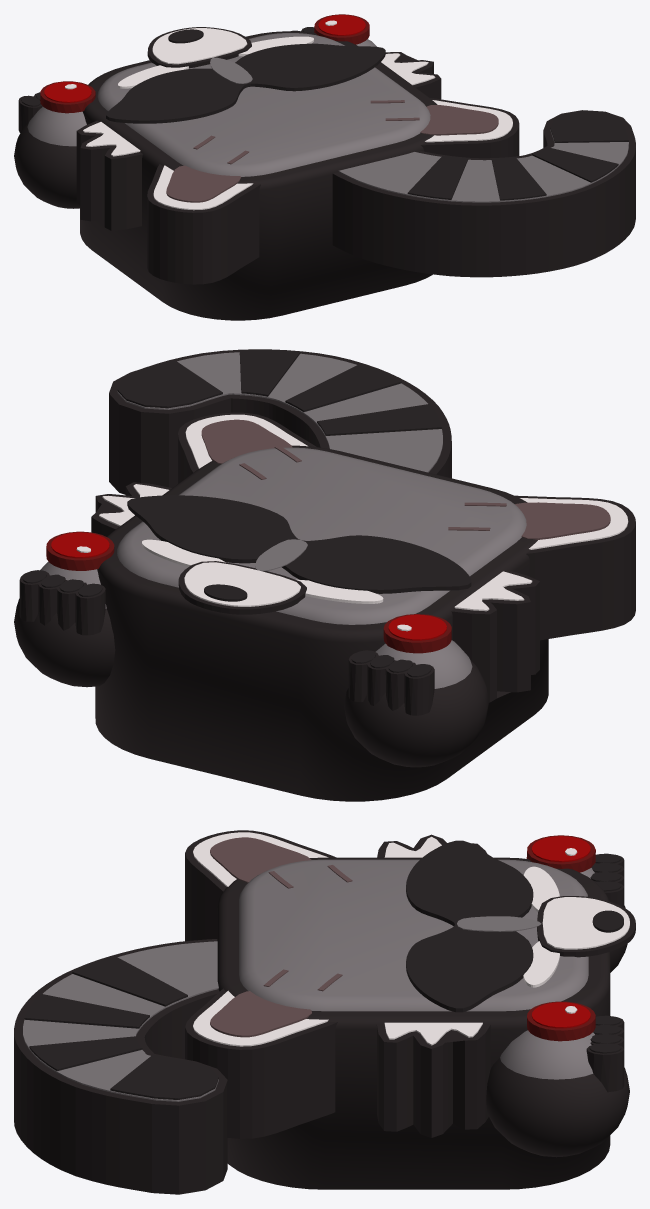
File: body_guaxinim.fbx
3 views of the same model, one above another, from view 1: azimuth 30°, elevation 25°; view 2: azimuth 150°, elevation 25°; view 3: azimuth 270°, elevation 25° (orthographic). The views are drawn at different scales.
Visible parts, largest first — view 1: body_guaxinim_corpo, body_guaxinim_mao_esq, body_guaxinim_mao; view 2: body_guaxinim_corpo, body_guaxinim_mao_esq, body_guaxinim_mao; view 3: body_guaxinim_corpo, body_guaxinim_mao, body_guaxinim_mao_esq.
Boxes of the visible parts, x1,y1,x2,y2 form: body_guaxinim_corpo: [76, 27, 635, 320]; body_guaxinim_mao_esq: [14, 81, 95, 208]; body_guaxinim_mao: [291, 14, 376, 46]; body_guaxinim_corpo: [91, 349, 635, 801]; body_guaxinim_mao_esq: [344, 614, 488, 767]; body_guaxinim_mao: [14, 531, 115, 687]; body_guaxinim_corpo: [14, 830, 635, 1194]; body_guaxinim_mao: [486, 1001, 629, 1157]; body_guaxinim_mao_esq: [526, 835, 627, 972].
Bounding box in the file's own units: 6.56 × 2.09 × 6.33.
Materials: 1 (1 with a texture image).
